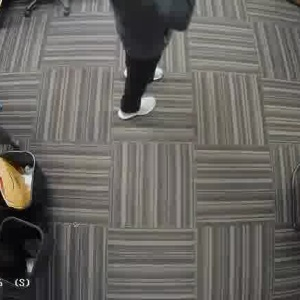person: (114, 0, 191, 123)
